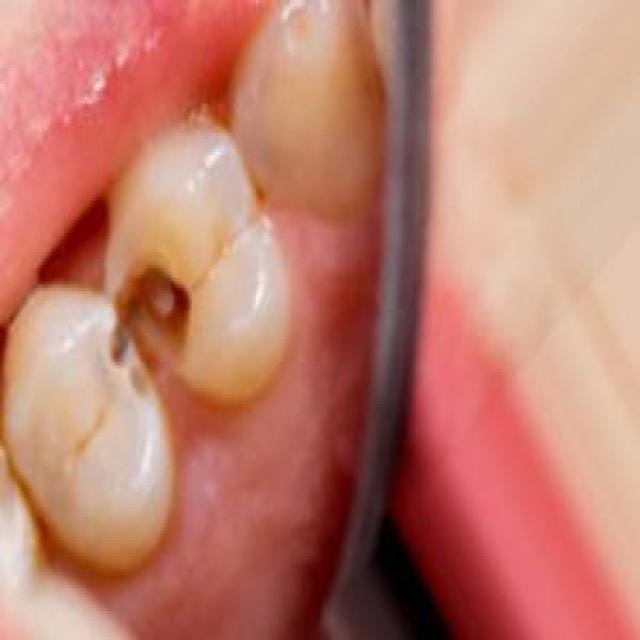caries: (86, 219, 215, 432)
